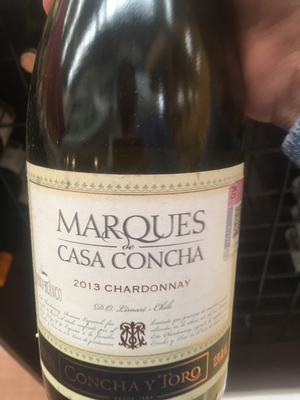marques de casa concha chardonnay: (27, 3, 247, 400)
